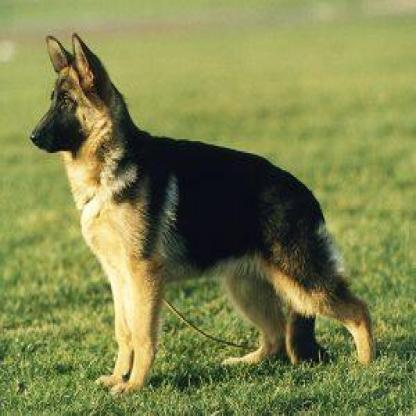German_shepherd: (28, 31, 373, 394)
